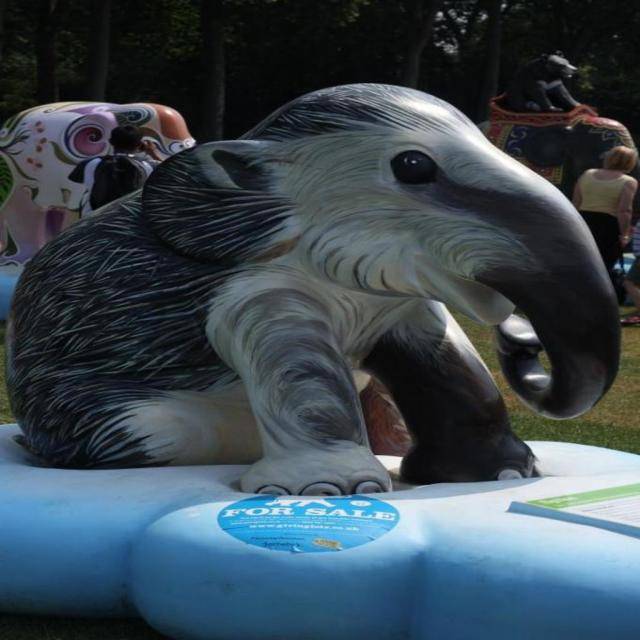elephant: (1, 78, 629, 512), (0, 105, 187, 262), (480, 110, 638, 204)
